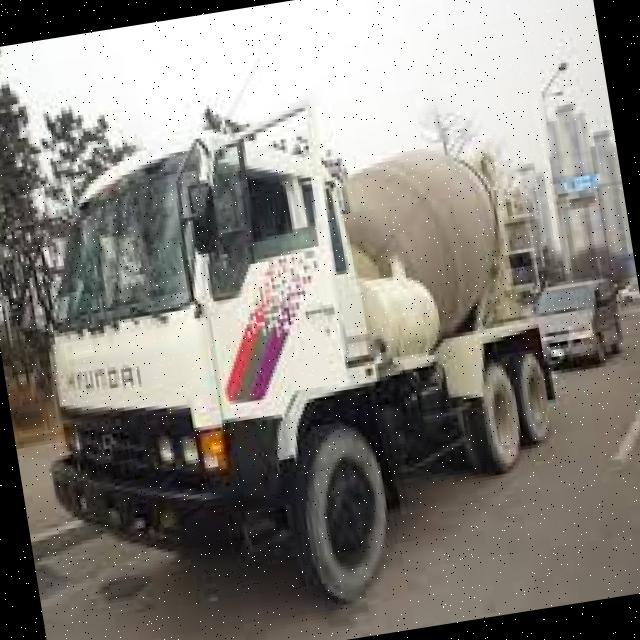Mixer Truck: (0, 56, 587, 640)
